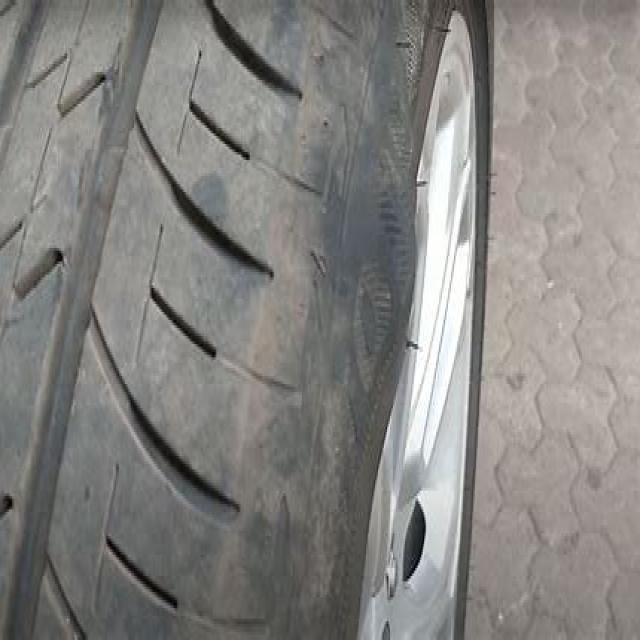Bulge: (334, 150, 421, 436)
